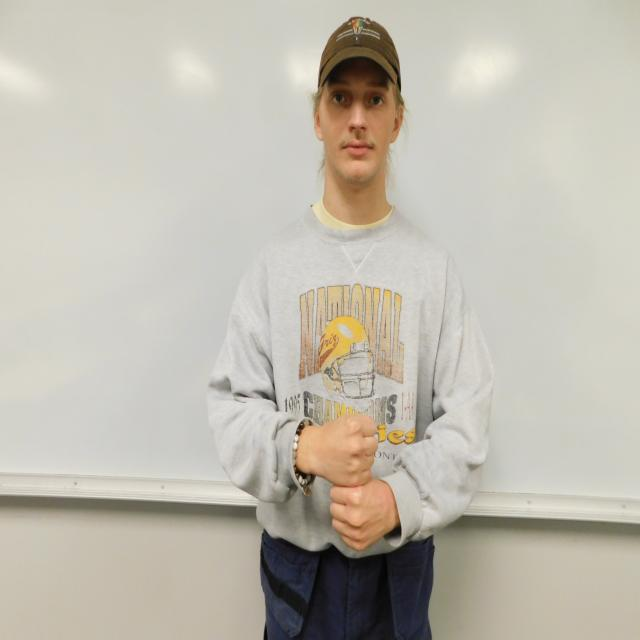get: (320, 416, 388, 551)
